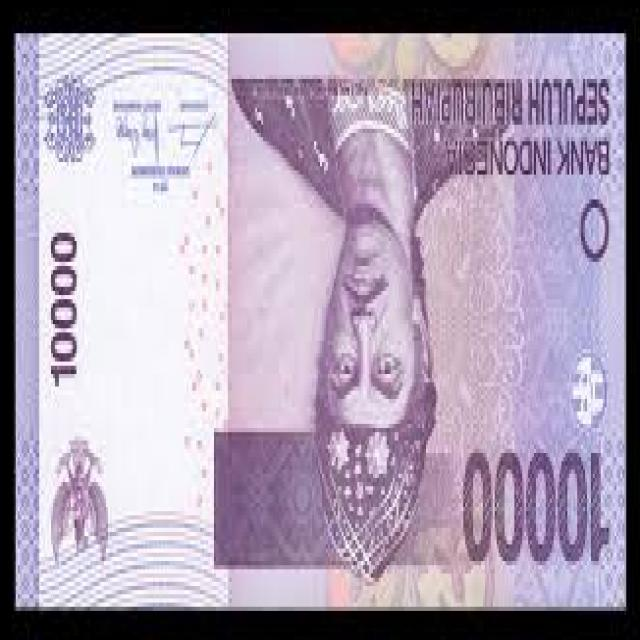sepuluh ribu rupiah: (11, 29, 624, 608)
